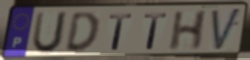D: (63, 11, 101, 55)
H: (166, 9, 210, 52)
T: (143, 12, 170, 51), (108, 13, 135, 52)
U: (30, 11, 71, 57)
V: (210, 6, 243, 53)
